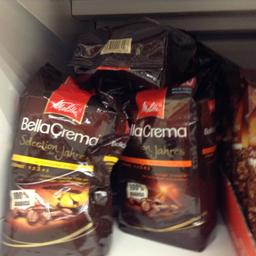coffee: (1, 76, 113, 254), (122, 82, 212, 250)
